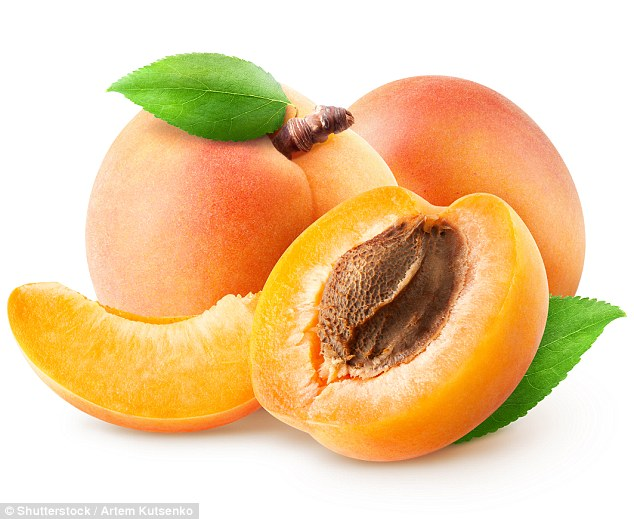Apricot 17cal Avocado Tropical Smoothie missing:Kiwi: (2, 21, 629, 481)
